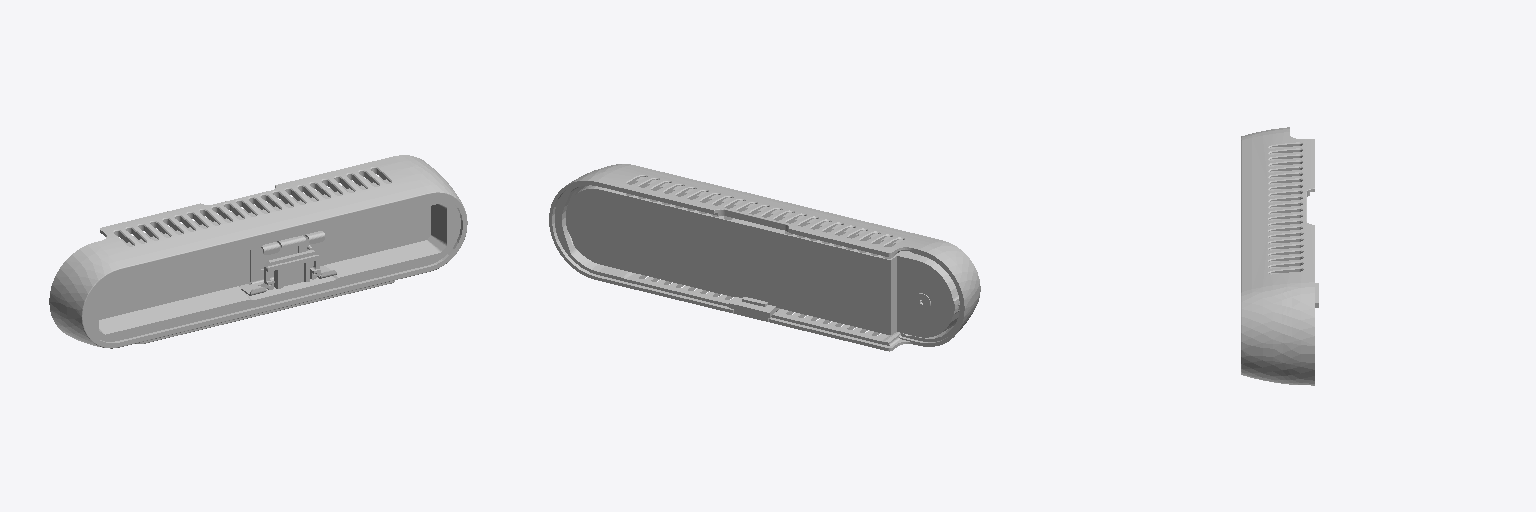
Rendered from RealSenseCam.obj.
3 renders of one model, left to right at view 1: azimuth 30°, elevation 25°; view 2: azimuth 150°, elevation 25°; view 3: azimuth 270°, elevation 25°, orthographic.
Parts seen in each view (by area): view 1: Part__Feature, Part__Feature006, Part__Feature011, Part__Feature007; view 2: Part__Feature006, Part__Feature; view 3: Part__Feature.
Part boxes in pixels (x1,y1,x2,y2): Part__Feature: (49, 155, 467, 348); Part__Feature006: (99, 176, 430, 319); Part__Feature011: (261, 250, 320, 289); Part__Feature007: (240, 231, 336, 295); Part__Feature006: (566, 185, 959, 337); Part__Feature: (549, 164, 980, 351); Part__Feature: (1241, 127, 1314, 385).
Size of the model in its own units: 98.75 by 23 by 16.5.